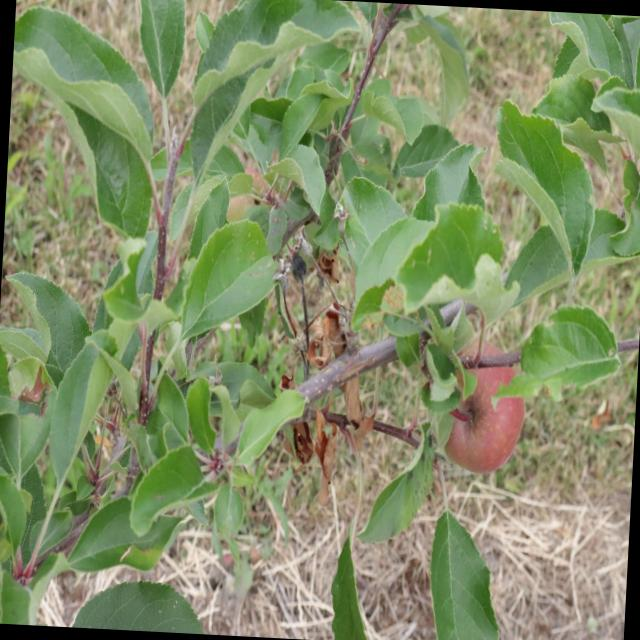-FireBlight-: (262, 246, 382, 491)
